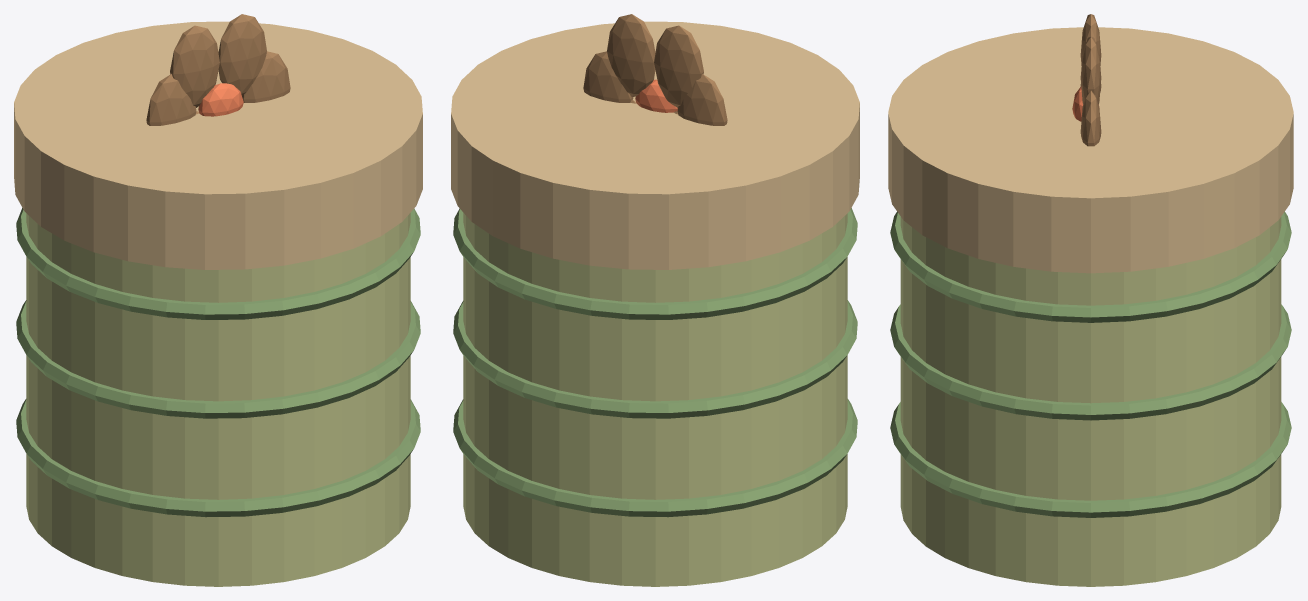
Rendered from bamboo_chasho.glb.
3 views of the same model, side by side, from view 1: azimuth 30°, elevation 25°; view 2: azimuth 150°, elevation 25°; view 3: azimuth 270°, elevation 25° (orthographic).
Parts seen in each view (by area): view 1: Bamboo airtight tea caddy, Outer wood-fitted cap, Bamboo growth node.001, Bamboo growth node, Bamboo growth node.002, Carved lid ornament_petal01, Carved lid ornament_petal02, Carved lid ornament_petal03, Carved lid ornament_petal00, Carved lid ornament_center; view 2: Bamboo airtight tea caddy, Outer wood-fitted cap, Bamboo growth node.001, Bamboo growth node, Bamboo growth node.002, Carved lid ornament_petal01, Carved lid ornament_petal02, Carved lid ornament_petal03, Carved lid ornament_petal00, Carved lid ornament_center; view 3: Bamboo airtight tea caddy, Outer wood-fitted cap, Bamboo growth node.001, Bamboo growth node, Bamboo growth node.002, Carved lid ornament_petal01, Carved lid ornament_petal00.
Part boxes in pixels (x1,y1,x2,y2): Bamboo airtight tea caddy: (26,213,410,586); Outer wood-fitted cap: (14,21,422,269); Bamboo growth node.001: (16,300,420,418); Bamboo growth node: (16,399,420,517); Bamboo growth node.002: (16,208,420,319); Carved lid ornament_petal01: (218,14,266,96); Carved lid ornament_petal02: (170,25,219,107); Carved lid ornament_petal03: (146,74,196,125); Carved lid ornament_petal00: (242,51,290,102); Carved lid ornament_center: (198,83,243,116); Bamboo airtight tea caddy: (463,213,847,586); Outer wood-fitted cap: (451,21,859,269); Bamboo growth node.001: (453,300,857,418); Bamboo growth node: (453,399,857,517); Bamboo growth node.002: (453,208,857,319); Carved lid ornament_petal01: (607,14,655,97); Carved lid ornament_petal02: (654,25,703,107); Carved lid ornament_petal03: (677,74,727,125); Carved lid ornament_petal00: (583,51,633,102); Carved lid ornament_center: (635,79,677,112); Bamboo airtight tea caddy: (900,217,1281,586); Outer wood-fitted cap: (888,27,1293,273); Bamboo growth node.001: (890,304,1291,420); Bamboo growth node: (890,402,1291,517); Bamboo growth node.002: (890,211,1291,322); Carved lid ornament_petal01: (1080,37,1101,104); Carved lid ornament_petal00: (1080,90,1101,146).
Size of the model in its own units: 1.46 by 1.95 by 1.46.
